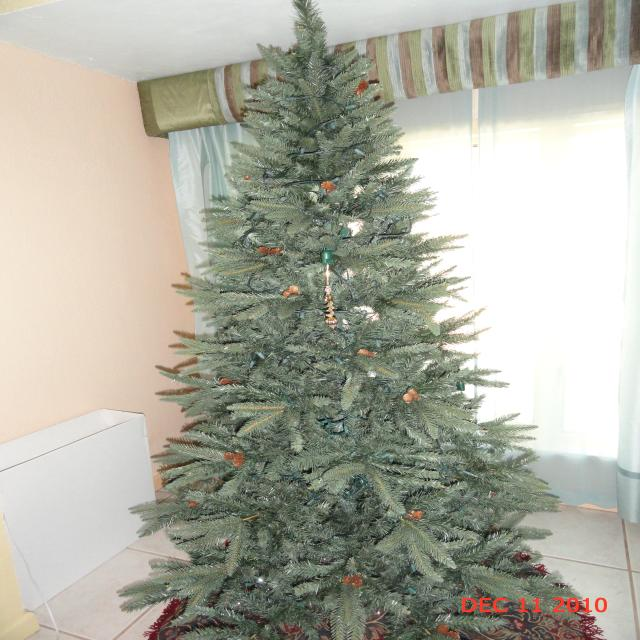Christmas-tree: (130, 9, 587, 592)
